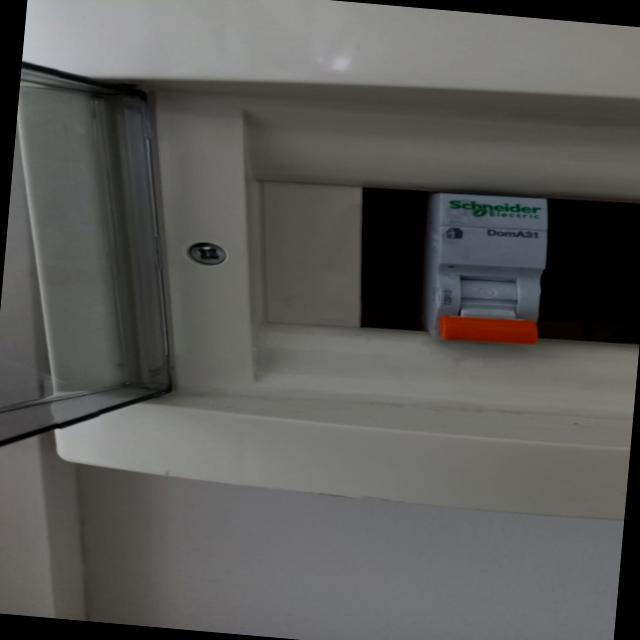Phillips: (182, 240, 230, 272)
